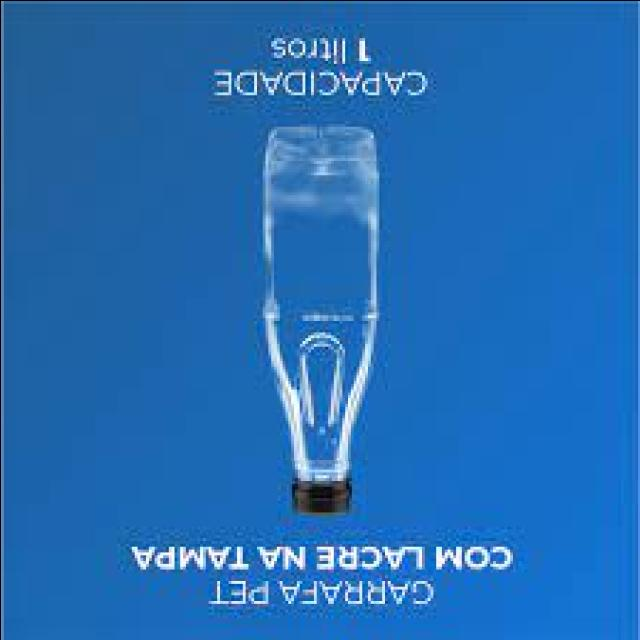bottom: (252, 110, 389, 190)
cap: (274, 460, 364, 522)
